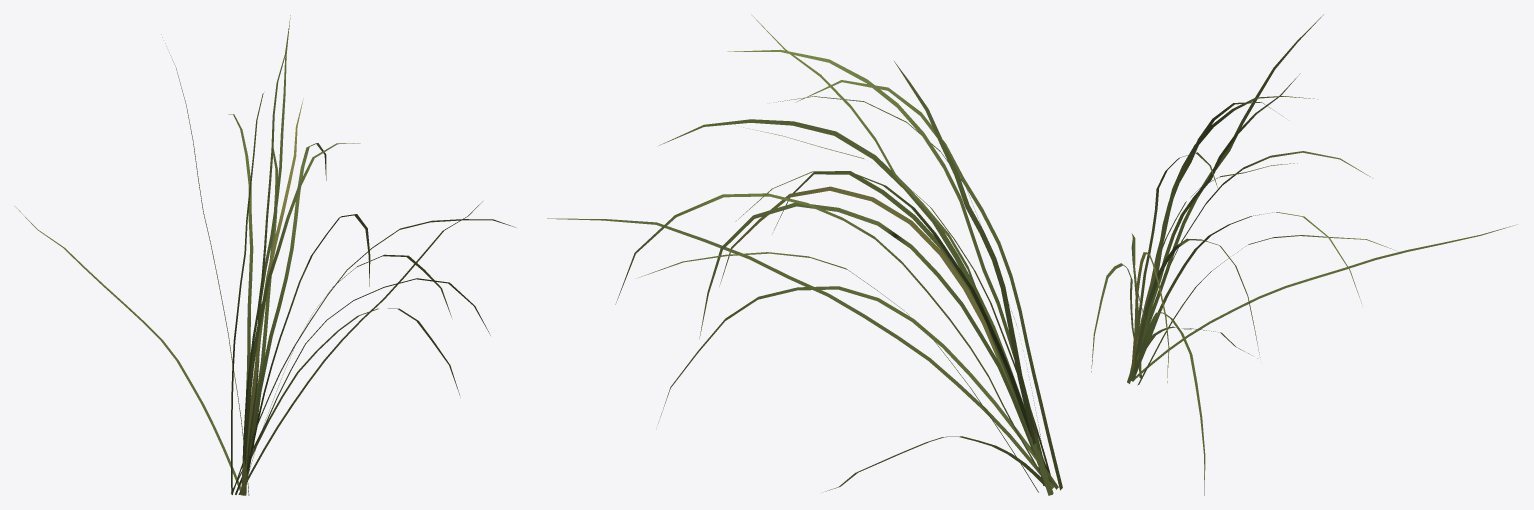
The model's file is capim_3_muito_longe.glb.
3 renders of one model, left to right at view 1: azimuth 30°, elevation 25°; view 2: azimuth 150°, elevation 25°; view 3: azimuth 270°, elevation 25°, orthographic. The views are drawn at different scales.
Visible parts, largest first — view 1: capim_3_muito_longe; view 2: capim_3_muito_longe; view 3: capim_3_muito_longe.
Boxes of the visible parts, left/top/right/bottom form: capim_3_muito_longe: left=15, top=15, right=515, bottom=495; capim_3_muito_longe: left=547, top=14, right=1062, bottom=495; capim_3_muito_longe: left=1091, top=14, right=1516, bottom=495.
Bounding box in the file's own units: 0.9054 × 1 × 1.03.
